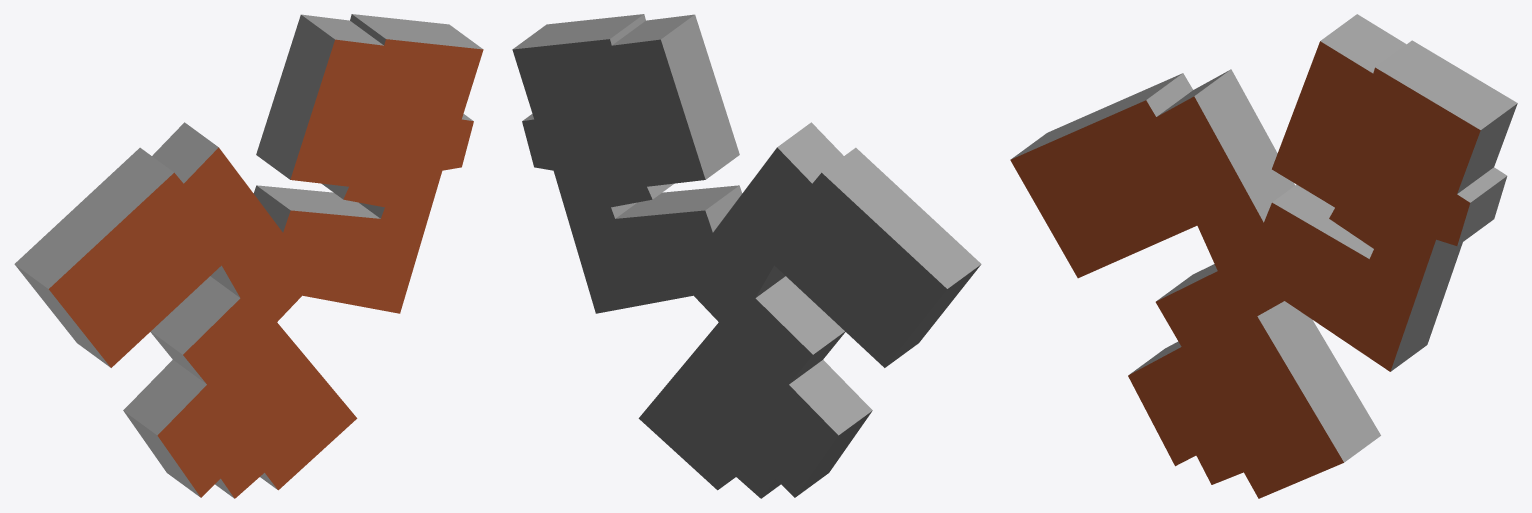
File: construction_4074_assumed_A_Casa_h6m.obj
3 views of the same model, side by side, from view 1: azimuth 30°, elevation 25°; view 2: azimuth 150°, elevation 25°; view 3: azimuth 330°, elevation 25° (orthographic). The views are drawn at different scales.
Parts seen in each view (by area): view 1: construction_4074_assumed_A_Casa; view 2: construction_4074_assumed_A_Casa; view 3: construction_4074_assumed_A_Casa.
Boxes of the visible parts, <box> form: construction_4074_assumed_A_Casa: <box>14,14,483,498</box>; construction_4074_assumed_A_Casa: <box>512,14,981,498</box>; construction_4074_assumed_A_Casa: <box>1010,14,1517,498</box>.
Bounding box in the file's own units: 43.98 × 42.23 × 6.
